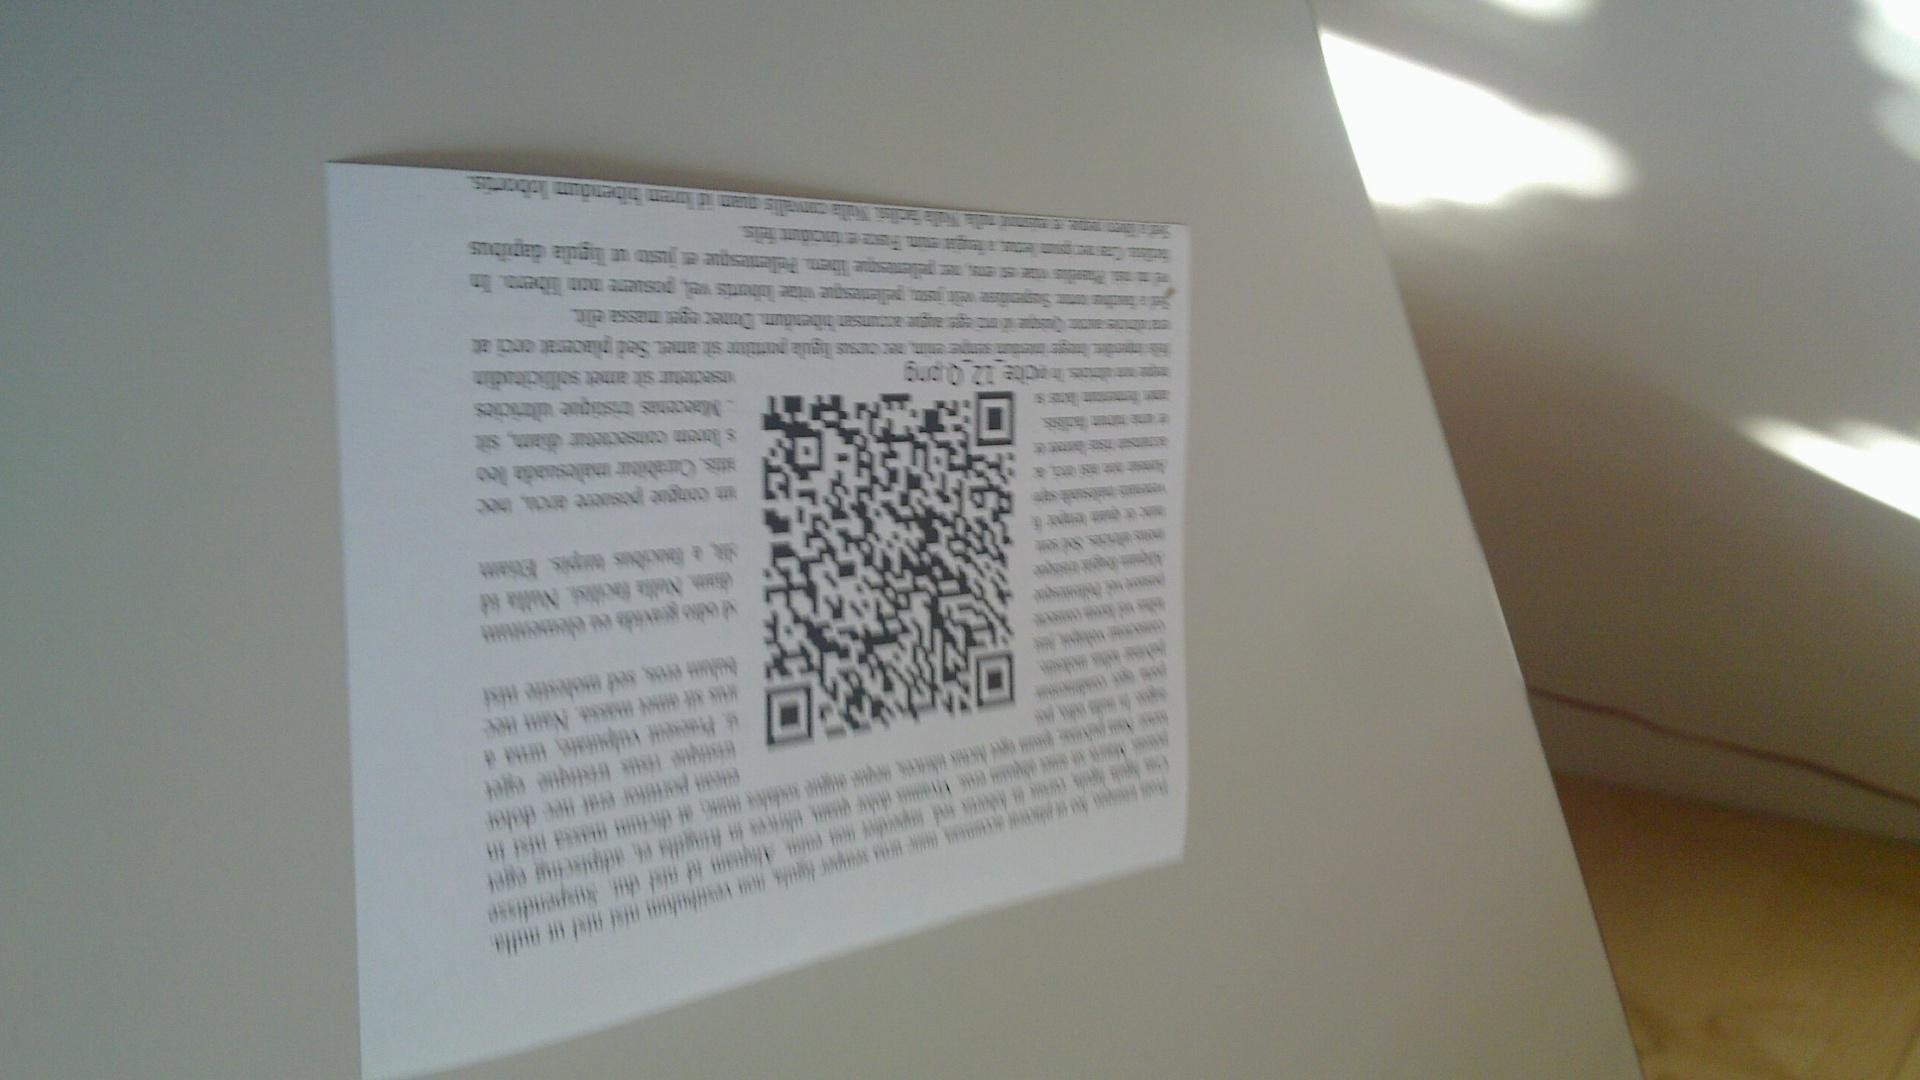Finder pattern: (760, 680, 816, 750), (968, 386, 1025, 455), (973, 645, 1021, 711)
